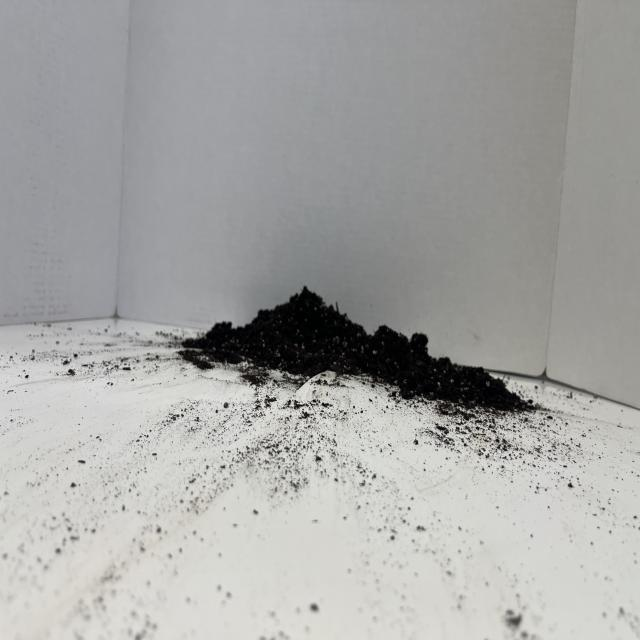soil: (178, 282, 540, 418)
